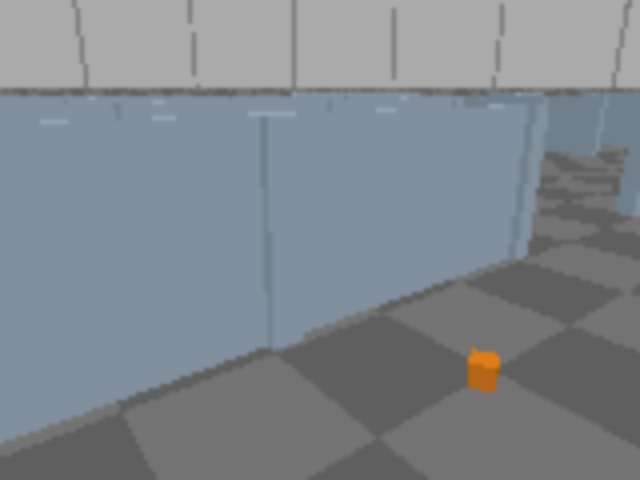puck: (466, 349, 501, 393)
